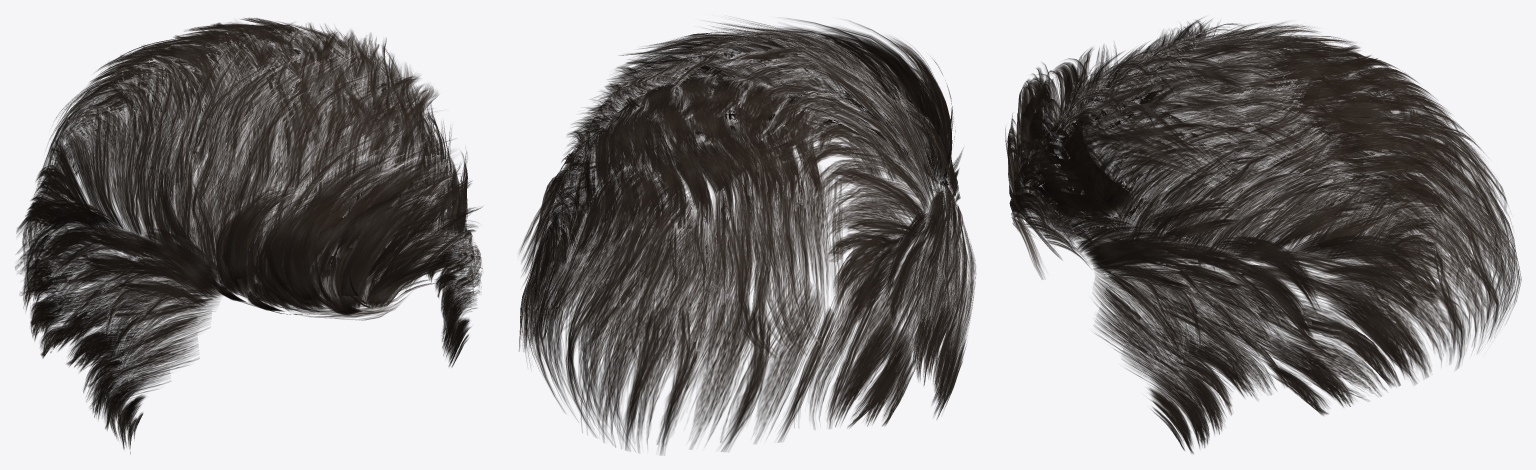
Rendered from Oblong_Straight_CrewCut.glb.
The picture shows the model from 3 angles, left to right: view 1: azimuth 30°, elevation 25°; view 2: azimuth 150°, elevation 25°; view 3: azimuth 270°, elevation 25°; orthographic projection. The views are drawn at different scales.
Visible parts, largest first — view 1: s4studio_mesh_3; view 2: s4studio_mesh_3; view 3: s4studio_mesh_3.
Boxes of the visible parts, x1,y1,x2,y2 form: s4studio_mesh_3: (15,18,482,454); s4studio_mesh_3: (519,18,975,454); s4studio_mesh_3: (1005,18,1521,453).
Bounding box in the file's own units: 0.1686 × 0.1555 × 0.209.
Materials: 1 (1 with a texture image).
